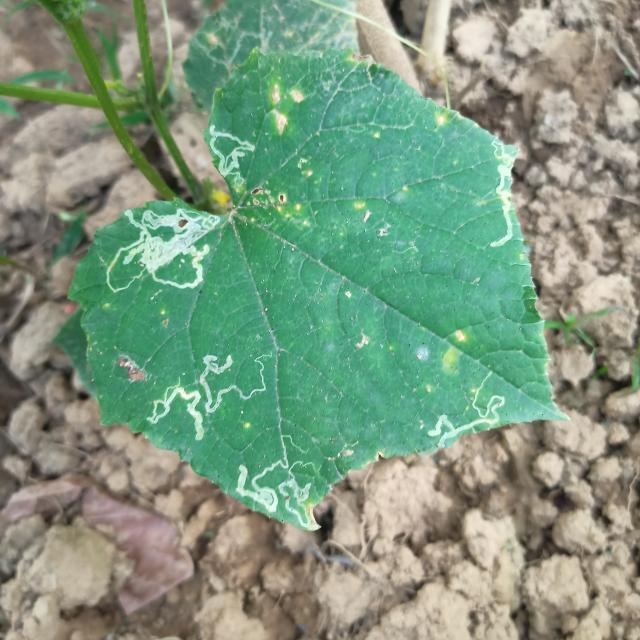disease_cucumber: (252, 189, 311, 228), (266, 82, 305, 141), (432, 326, 473, 380)
